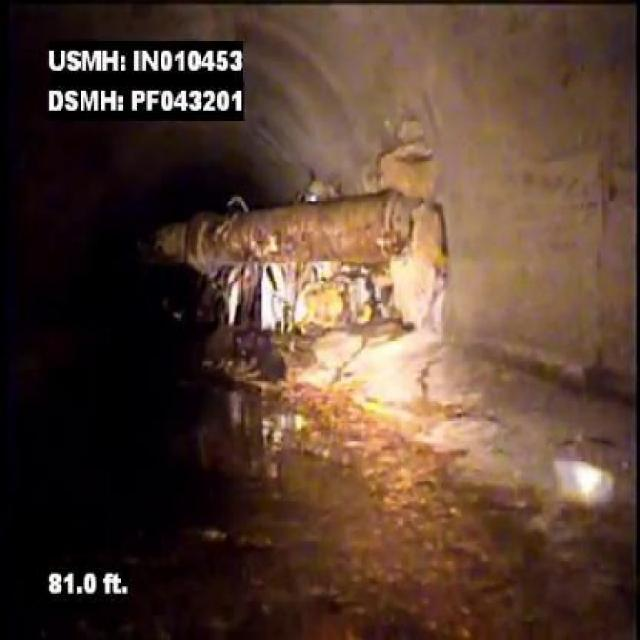Crack: (588, 203, 617, 369), (412, 354, 462, 414)
Utility intrusion: (131, 185, 429, 280)
